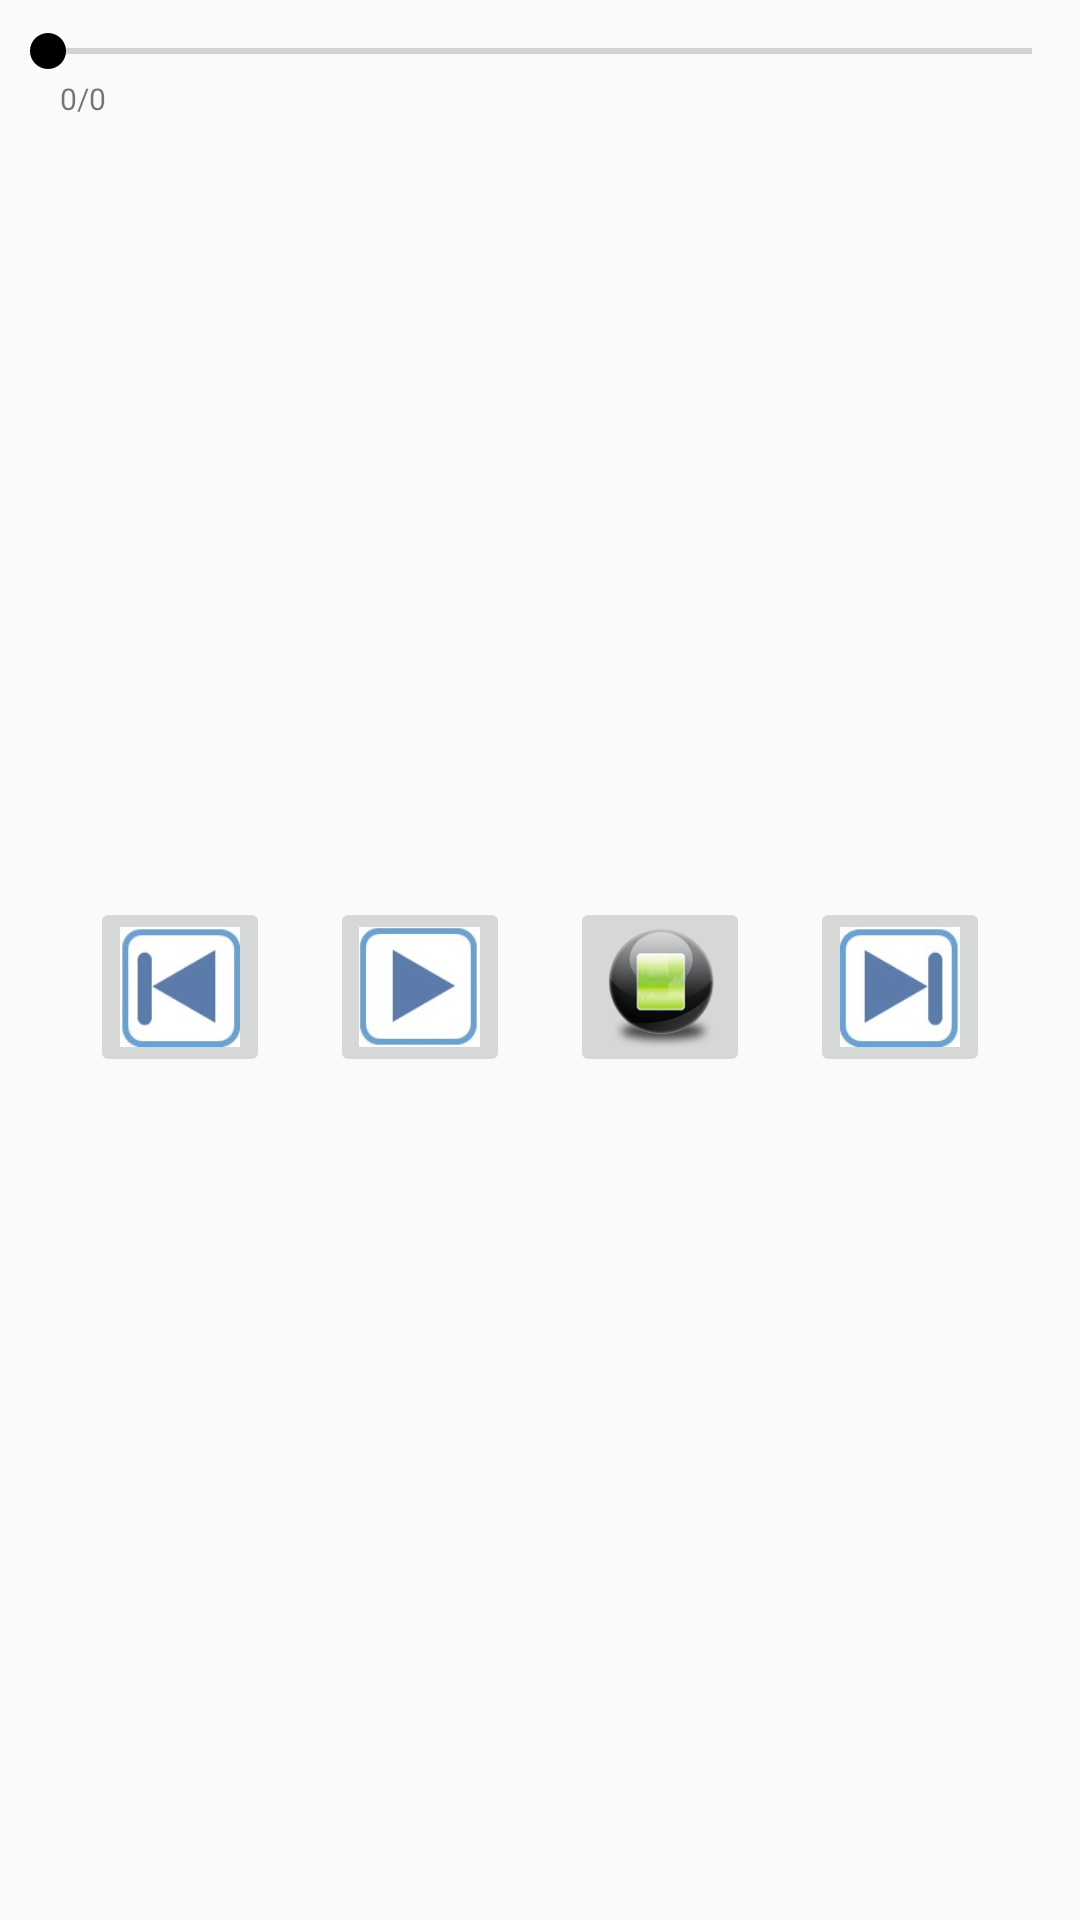

Point at icon controls on the screen. Image size 1080px x 1920px, points as (x=x, y=y).
Next: (x=900, y=987)
play: (x=420, y=987)
Previous: (x=180, y=987)
